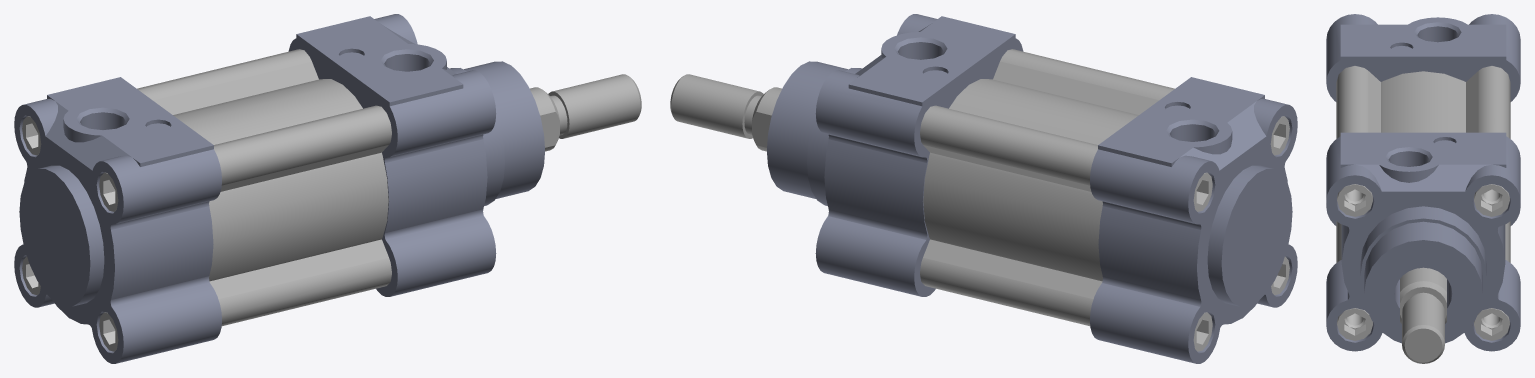
The picture shows the model from 3 angles, left to right: view 1: azimuth 30°, elevation 25°; view 2: azimuth 150°, elevation 25°; view 3: azimuth 270°, elevation 25°; orthographic projection. The views are drawn at different scales.
Visible parts, largest first — view 1: ISO_15552_STD_2F_DI40-120-HR_3, STD_2_FLAT_40-1-83-B_2, ISO_15552_STD_2F_DI40-HL_1, 401201-Rod_4; view 2: ISO_15552_STD_2F_DI40-120-HR_3, STD_2_FLAT_40-1-83-B_2, ISO_15552_STD_2F_DI40-HL_1, 401201-Rod_4; view 3: ISO_15552_STD_2F_DI40-HL_1, ISO_15552_STD_2F_DI40-120-HR_3, STD_2_FLAT_40-1-83-B_2, 401201-Rod_4.
Part boxes in pixels (x1,y1,x2,y2): ISO_15552_STD_2F_DI40-120-HR_3: (14,77,221,363); STD_2_FLAT_40-1-83-B_2: (137,49,391,326); ISO_15552_STD_2F_DI40-HL_1: (288,14,544,296); 401201-Rod_4: (530,74,641,151); ISO_15552_STD_2F_DI40-120-HR_3: (1090,77,1297,363); STD_2_FLAT_40-1-83-B_2: (920,49,1174,326); ISO_15552_STD_2F_DI40-HL_1: (767,14,1023,296); 401201-Rod_4: (670,74,781,151); ISO_15552_STD_2F_DI40-HL_1: (1326,132,1520,351); ISO_15552_STD_2F_DI40-120-HR_3: (1326,14,1520,225); STD_2_FLAT_40-1-83-B_2: (1336,66,1510,262); 401201-Rod_4: (1400,267,1446,363).
Size of the model in its own units: 164 by 54 by 54.
